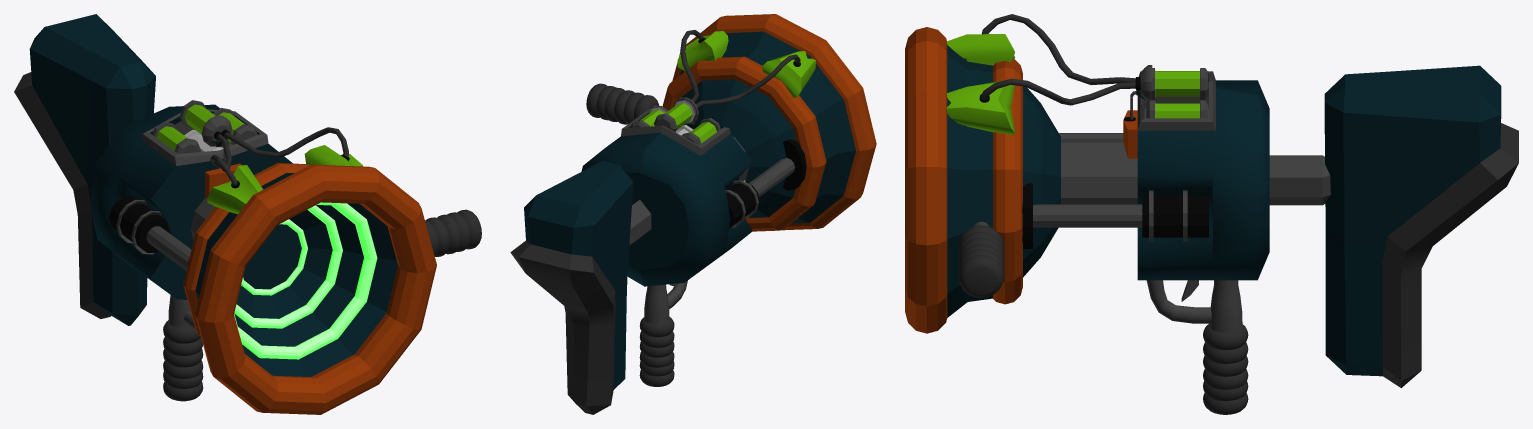
The model's file is recoilGun2.fbx.
3 renders of one model, left to right at view 1: azimuth 30°, elevation 25°; view 2: azimuth 150°, elevation 25°; view 3: azimuth 270°, elevation 25°, orthographic. The views are drawn at different scales.
Visible parts, largest first — view 1: barrelRing1, stock, barrel, mainBody1, barrelRing2, grip, barrelRingOuter, barrelRing3, grip1, rightCylinder, bracer1, rightPiston (+11 smaller); view 2: stock, mainBody1, barrel, barrelRing1, barrelRingOuter, grip, grip1, bracer1, bracer2, barrelGrip1, rightCylinder, rightPiston (+7 smaller); view 3: stock, mainBody1, barrelRing1, barrel, barrelRingOuter, mainPiston, grip, stockShaft, grip1, bracer2, leftPiston, leftCylinder (+9 smaller).
Part boxes in pixels (<box>): barrelRing1: <box>195,164,436,414</box>; stock: <box>14,14,155,325</box>; barrel: <box>195,173,397,376</box>; mainBody1: <box>90,104,292,299</box>; barrelRing2: <box>234,202,377,359</box>; grip: <box>163,320,203,401</box>; barrelRingOuter: <box>183,163,309,336</box>; barrelRing3: <box>234,205,342,328</box>; grip1: <box>425,209,481,256</box>; rightCylinder: <box>109,196,169,252</box>; bracer1: <box>207,165,263,214</box>; rightPiston: <box>146,226,191,270</box>; stock: <box>510,160,633,414</box>; mainBody1: <box>581,108,752,286</box>; barrel: <box>680,31,855,223</box>; barrelRing1: <box>672,14,876,230</box>; barrelRingOuter: <box>662,56,826,231</box>; grip: <box>639,316,674,386</box>; grip1: <box>586,83,659,124</box>; bracer1: <box>762,51,815,97</box>; bracer2: <box>677,31,728,71</box>; barrelGrip1: <box>644,284,669,324</box>; rightCylinder: <box>726,182,759,228</box>; rightPiston: <box>749,158,794,197</box>; stock: <box>1324,65,1518,388</box>; mainBody1: <box>1137,71,1269,280</box>; barrelRing1: <box>905,27,947,333</box>; barrel: <box>947,45,1060,317</box>; barrelRingOuter: <box>993,58,1022,304</box>; mainPiston: <box>1061,138,1137,204</box>; grip: <box>1203,323,1248,414</box>; stockShaft: <box>1269,155,1330,205</box>; grip1: <box>958,225,1003,297</box>; bracer2: <box>946,80,1015,134</box>; leftPiston: <box>1033,204,1142,227</box>; leftCylinder: <box>1142,194,1208,237</box>.
Bounding box in the file's own units: 101 × 105 × 159.
